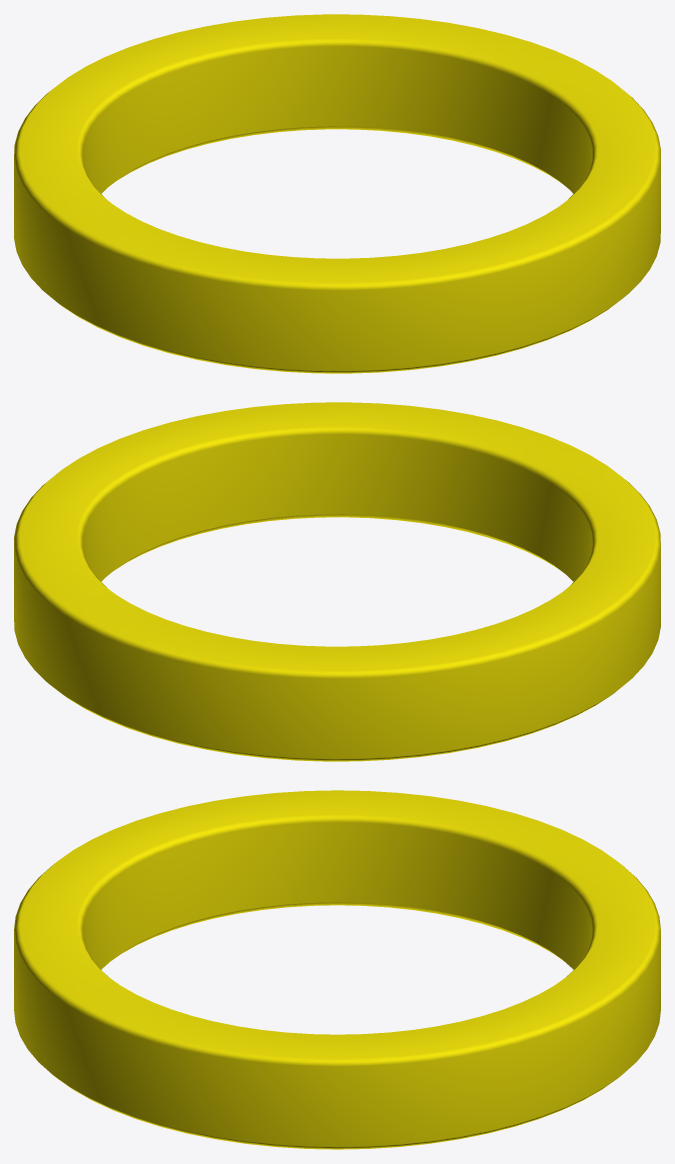
3 renders of one model, top to bottom at view 1: azimuth 30°, elevation 25°; view 2: azimuth 150°, elevation 25°; view 3: azimuth 270°, elevation 25°, orthographic.
Parts seen in each view (by area): view 1: seal_body; view 2: seal_body; view 3: seal_body.
Part boxes in pixels (x1,y1,x2,y2): seal_body: (14,14,660,373); seal_body: (14,402,660,761); seal_body: (14,790,660,1149).
Bounding box in the file's own units: 0.0258 × 0.004 × 0.0258.
